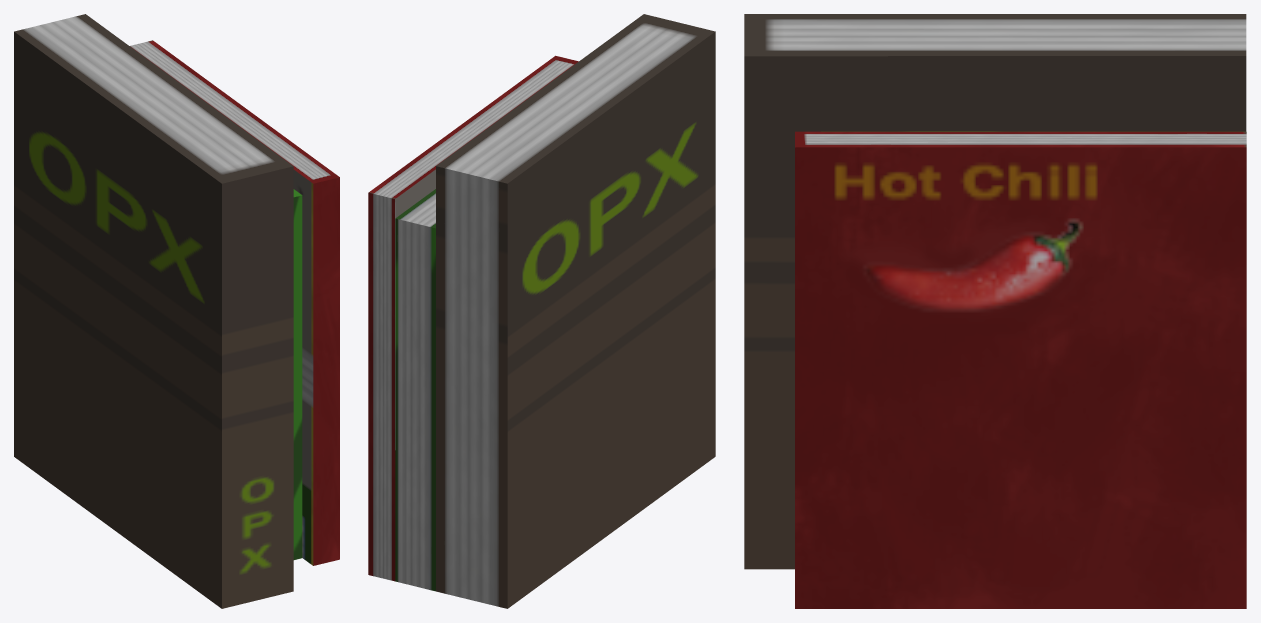
File: books1.FBX
3 views of the same model, side by side, from view 1: azimuth 30°, elevation 25°; view 2: azimuth 150°, elevation 25°; view 3: azimuth 270°, elevation 25° (orthographic). The views are drawn at different scales.
Parts seen in each view (by area): view 1: Books_1; view 2: Books_1; view 3: Books_1.
Boxes of the visible parts, <box> form: Books_1: <box>14,14,339,608</box>; Books_1: <box>368,14,715,608</box>; Books_1: <box>744,14,1246,608</box>.
Size of the model in its own units: 25.96 by 75.93 by 67.33.
